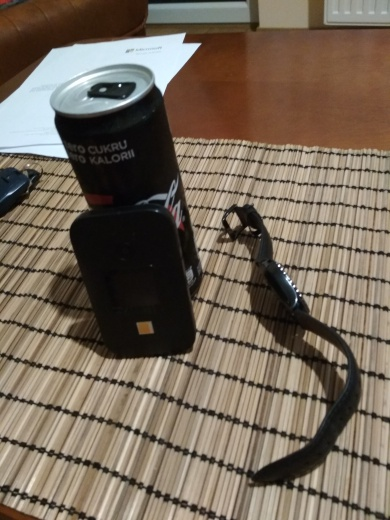colazero: (38, 58, 215, 295)
